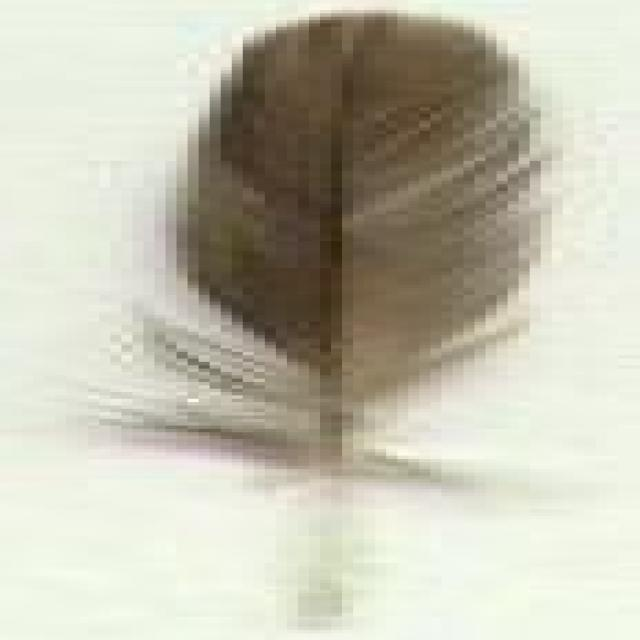feather: (90, 14, 562, 638)
